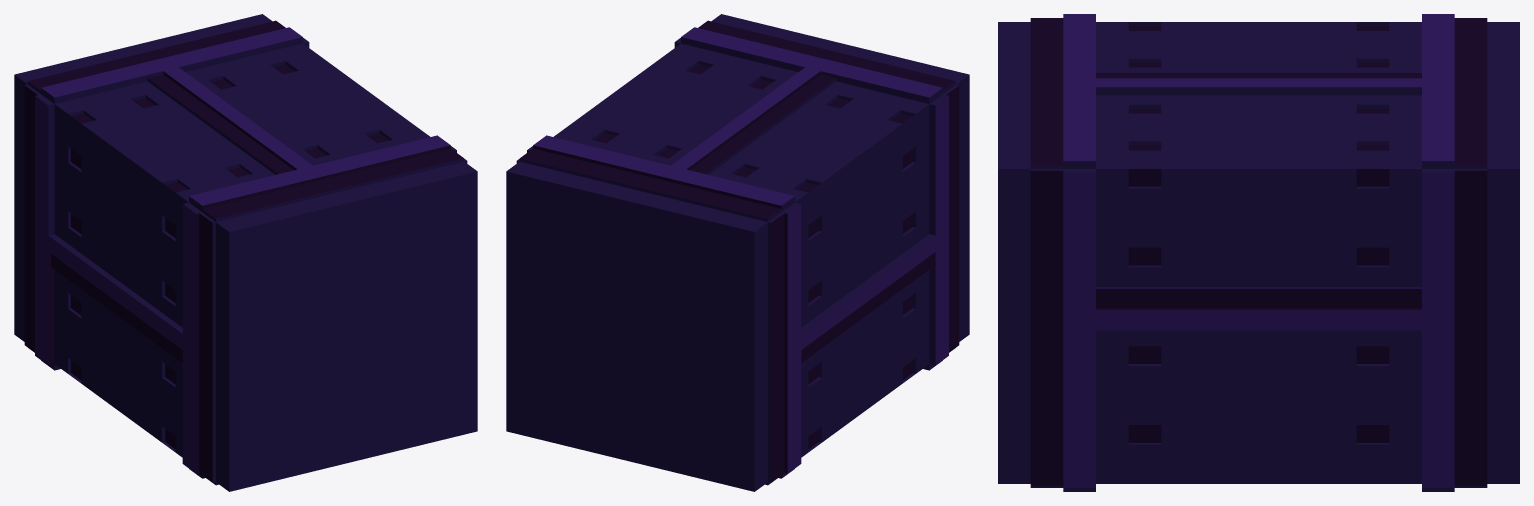
The model's file is PurpleWallCube.glb.
3 views of the same model, side by side, from view 1: azimuth 30°, elevation 25°; view 2: azimuth 150°, elevation 25°; view 3: azimuth 270°, elevation 25° (orthographic). The views are drawn at different scales.
Visible parts, largest first — view 1: BevelledCube; view 2: BevelledCube; view 3: BevelledCube.
Boxes of the visible parts, x1,y1,x2,y2 form: BevelledCube: [14, 14, 477, 491]; BevelledCube: [506, 14, 969, 491]; BevelledCube: [998, 14, 1519, 491].
Bounding box in the file's own units: 2.1 × 2.1 × 3.
